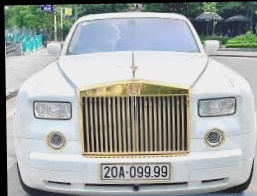Bien-so: (91, 158, 167, 179)
